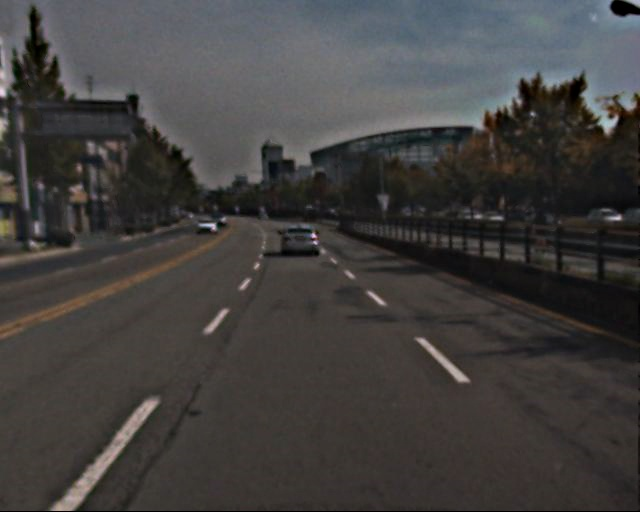person: (530, 208, 551, 258)
